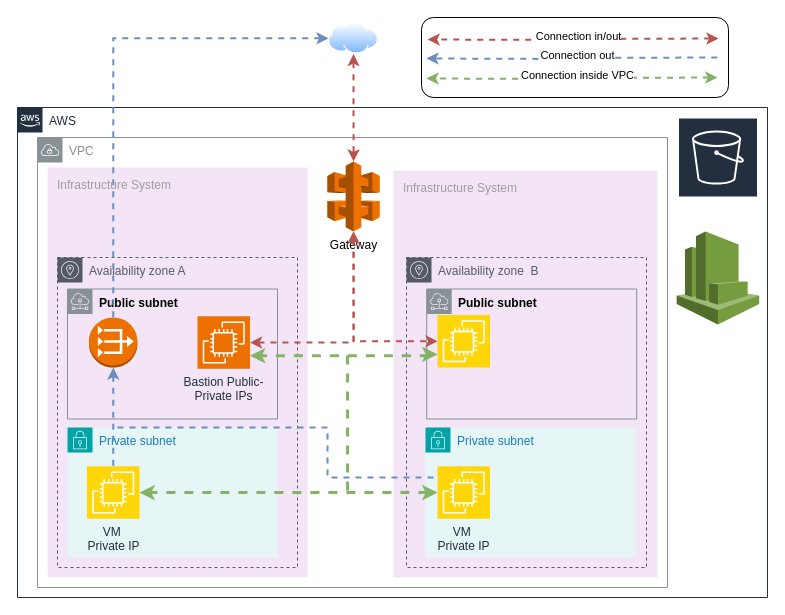
This 785x615 diagram has some shape labels left out. The centre of each missing label's shape, as x and y in pixels:
"Amazon S3" belongs at [717,167].
"Cloud Watch" belongs at [717,277].
"Internet" belongs at [353,38].
"NAT GatewayA Public IP" belongs at [113,342].
"VM Public- Private IPs" belongs at [463,341].
